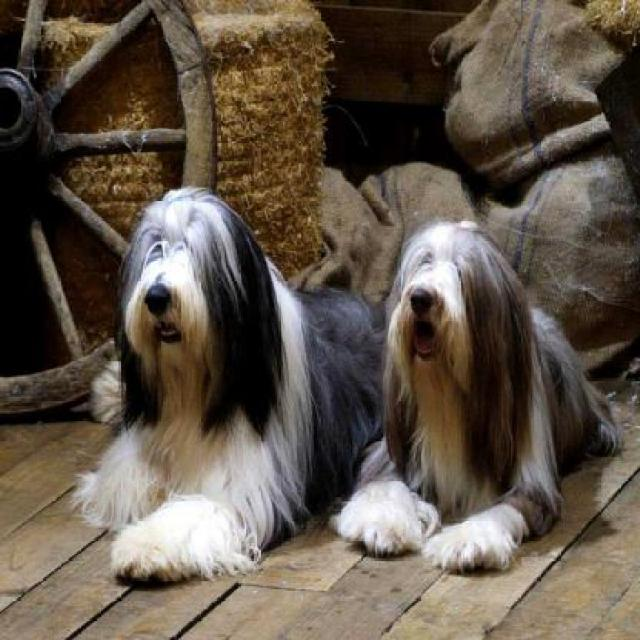animals: (337, 173, 595, 581), (92, 160, 316, 582)
